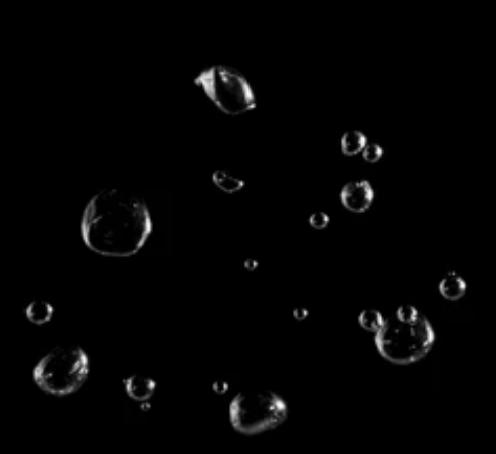water drop: (79, 190, 155, 257), (358, 307, 437, 366), (196, 65, 257, 114), (36, 348, 92, 398), (229, 390, 287, 434), (340, 182, 372, 212), (439, 272, 469, 299), (342, 128, 367, 155), (214, 170, 243, 193), (25, 302, 53, 325), (129, 375, 154, 400), (308, 211, 328, 228), (362, 145, 382, 160)
